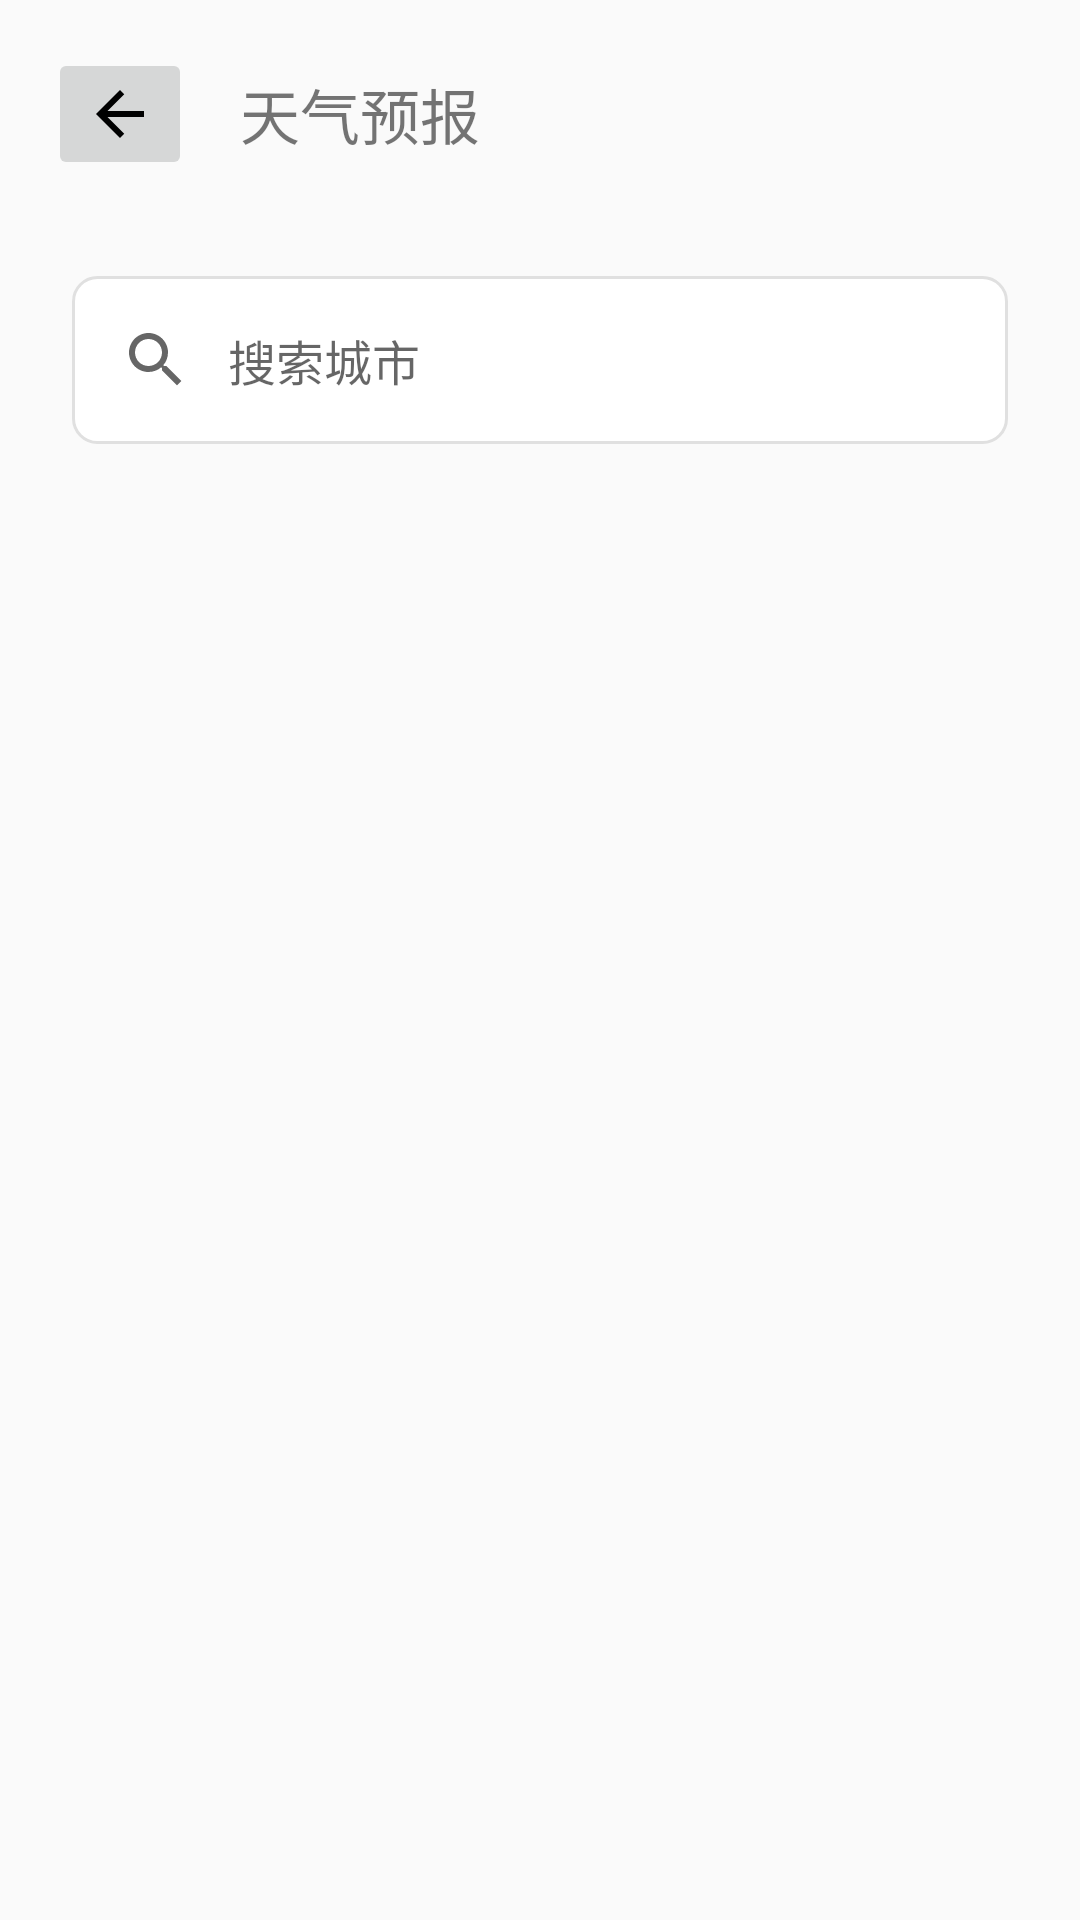

Screen size 1080px×1920px. Icon name, then its box in pixels as (x1, y1, x2, y2):
back: (60, 66, 180, 162)
